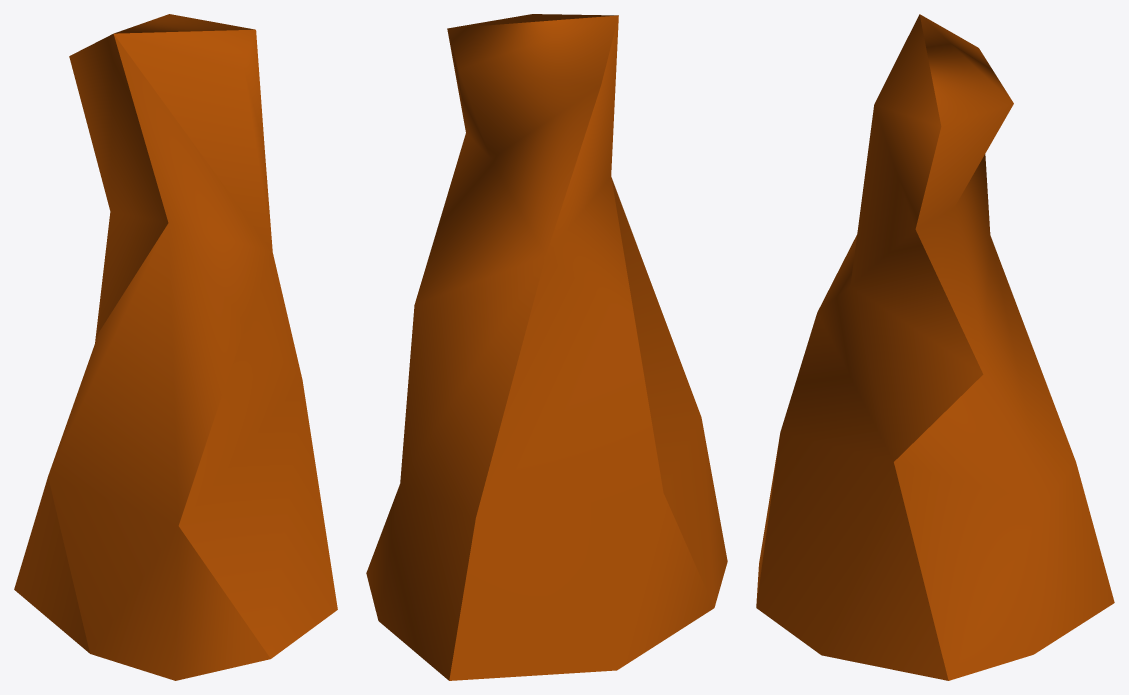
File: rock02.fbx
The picture shows the model from 3 angles, left to right: view 1: azimuth 30°, elevation 25°; view 2: azimuth 150°, elevation 25°; view 3: azimuth 270°, elevation 25°; orthographic projection. The views are drawn at different scales.
Parts seen in each view (by area): view 1: rock02; view 2: rock02; view 3: rock02.
Part boxes in pixels (bbox=[...]): rock02: bbox=[14, 14, 337, 680]; rock02: bbox=[366, 14, 727, 680]; rock02: bbox=[756, 14, 1114, 680].
Size of the model in its own units: 31.16 by 60.59 by 35.17.
